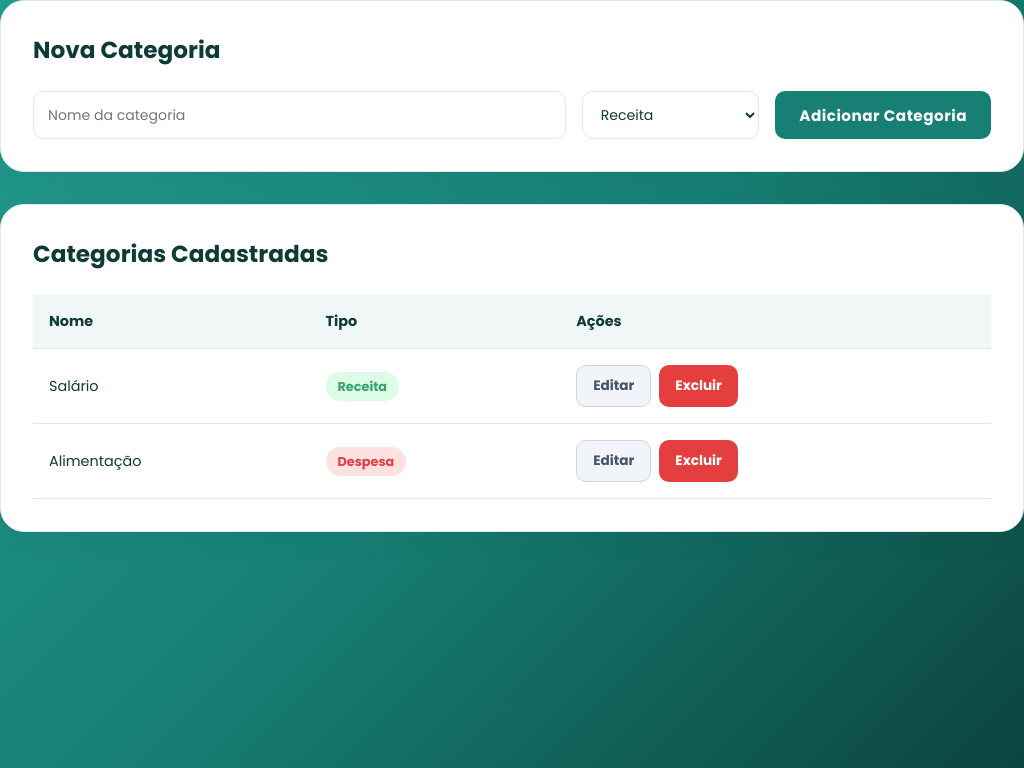
Test: cancelar edicao mantem o nome original
The image size is (1024, 768).
Expected: the text "Salário" is shown, x1=33 y1=348 x2=310 y2=424
Click the button "Editar" in the row of "Salário". click: (614, 386)
box: x1=576 y1=365 x2=651 y2=407
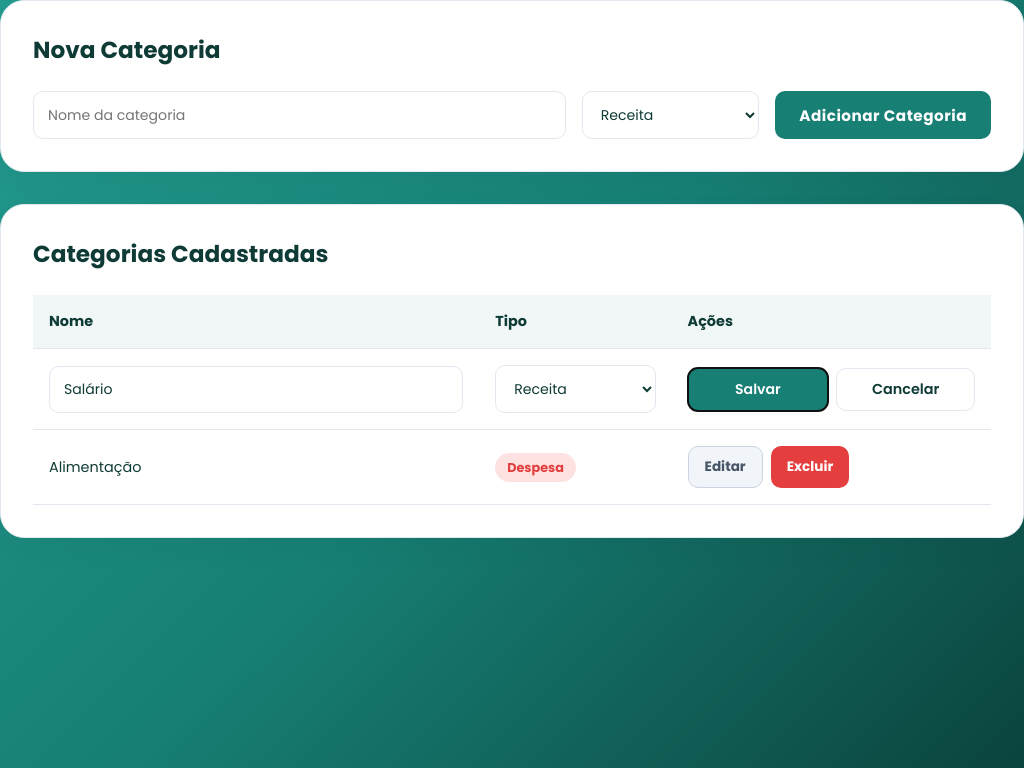
Replace the text in the 2nd field with "Outro Nome". click: (256, 389)
box: x1=49 y1=366 x2=463 y2=412
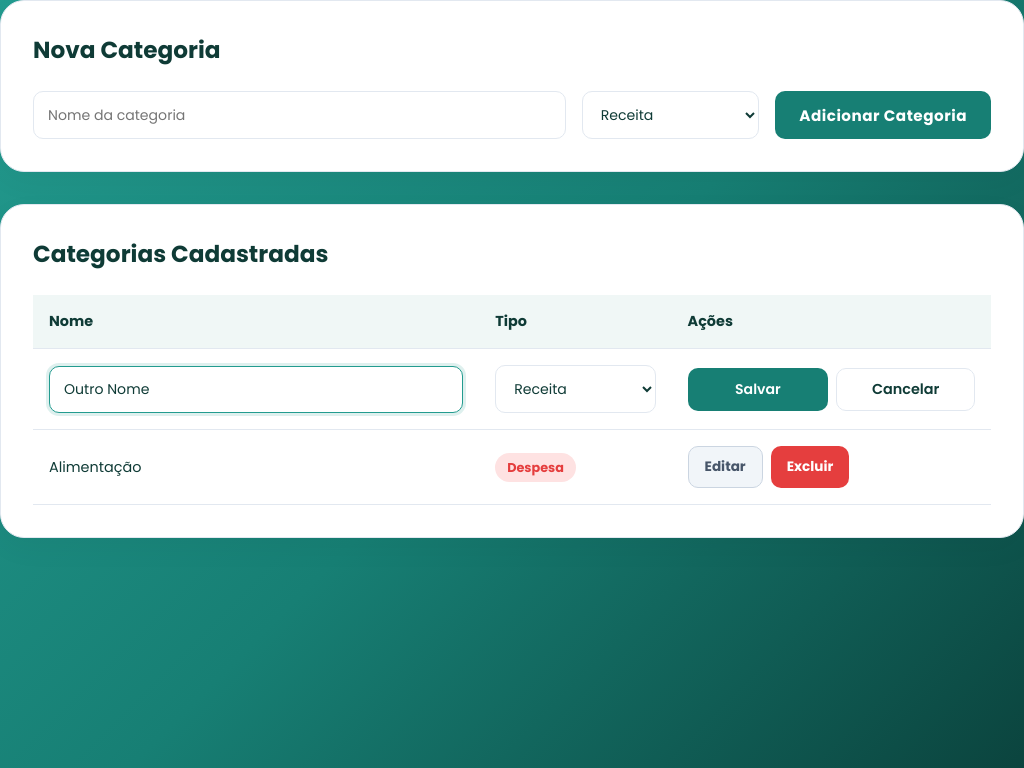
Click the button "Cancelar". click: (906, 389)
box: x1=836 y1=368 x2=975 y2=410
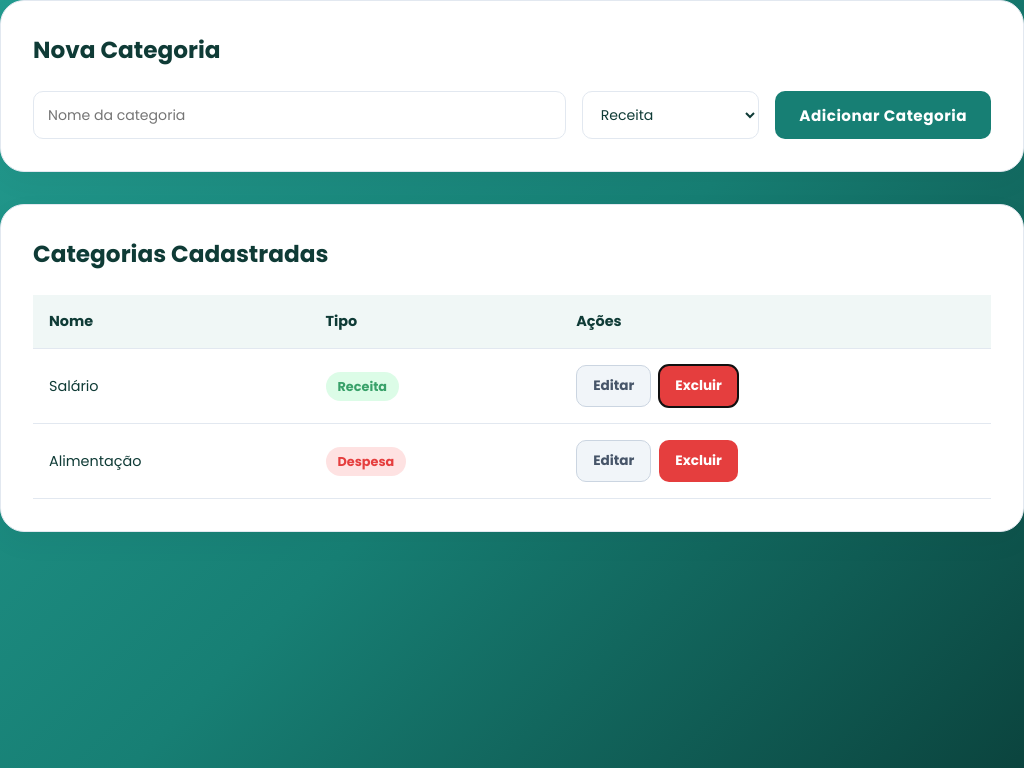
Expected: the text "Outro Nome" is not shown
Expected: the text "Salário" is shown, x1=33 y1=348 x2=310 y2=424
